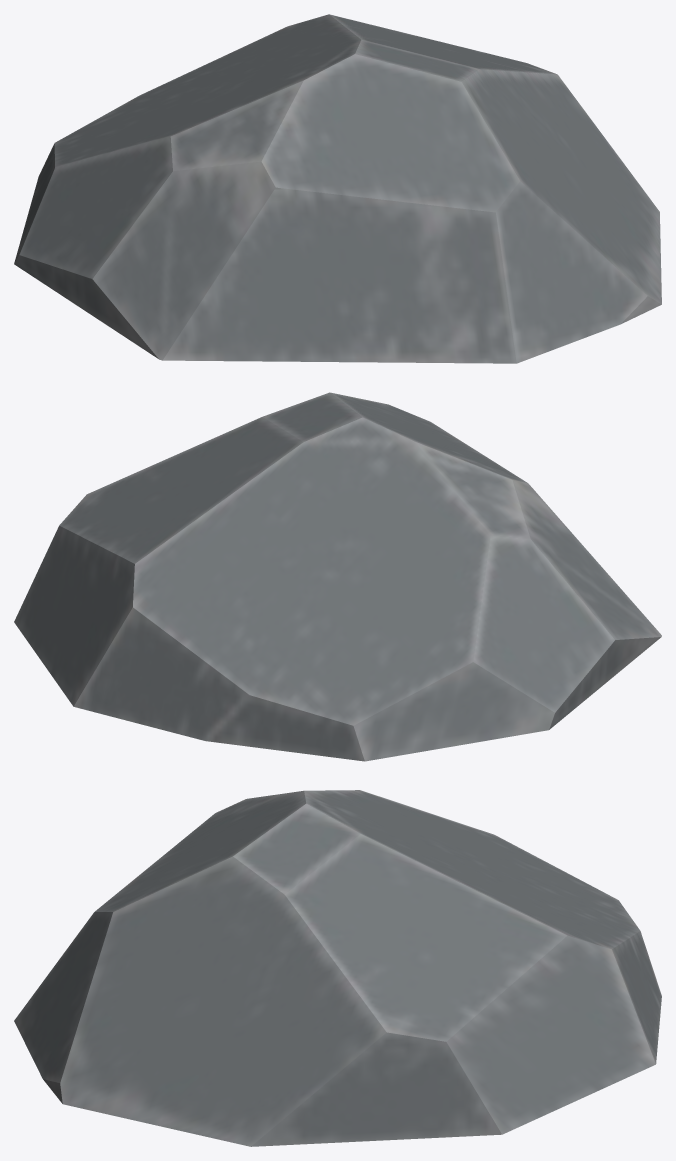
The model's file is rock5.glb.
3 renders of one model, top to bottom at view 1: azimuth 30°, elevation 25°; view 2: azimuth 150°, elevation 25°; view 3: azimuth 270°, elevation 25°, orthographic. The views are drawn at different scales.
Visible parts, largest first — view 1: rock_005; view 2: rock_005; view 3: rock_005.
Part boxes in pixels (<box>): rock_005: <box>14,14,661,363</box>; rock_005: <box>14,392,661,761</box>; rock_005: <box>14,790,661,1146</box>.
Bounding box in the file's own units: 0.3057 × 0.1116 × 0.3132.
Materials: 1 (1 with a texture image).
